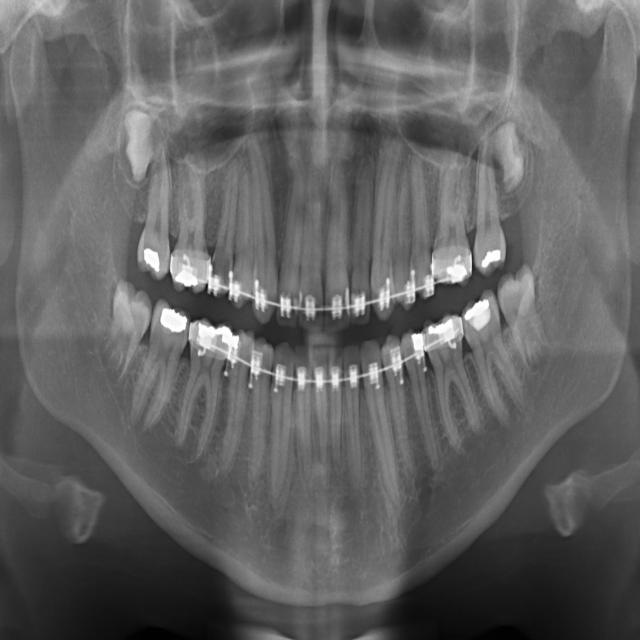AmalgamRestoration: (463, 292, 498, 341), (476, 240, 508, 280), (141, 230, 166, 278), (426, 316, 463, 348), (158, 304, 190, 338), (208, 314, 236, 351), (404, 319, 427, 358)
DentalCaries: (209, 231, 234, 291), (169, 306, 193, 356), (229, 254, 248, 295)
